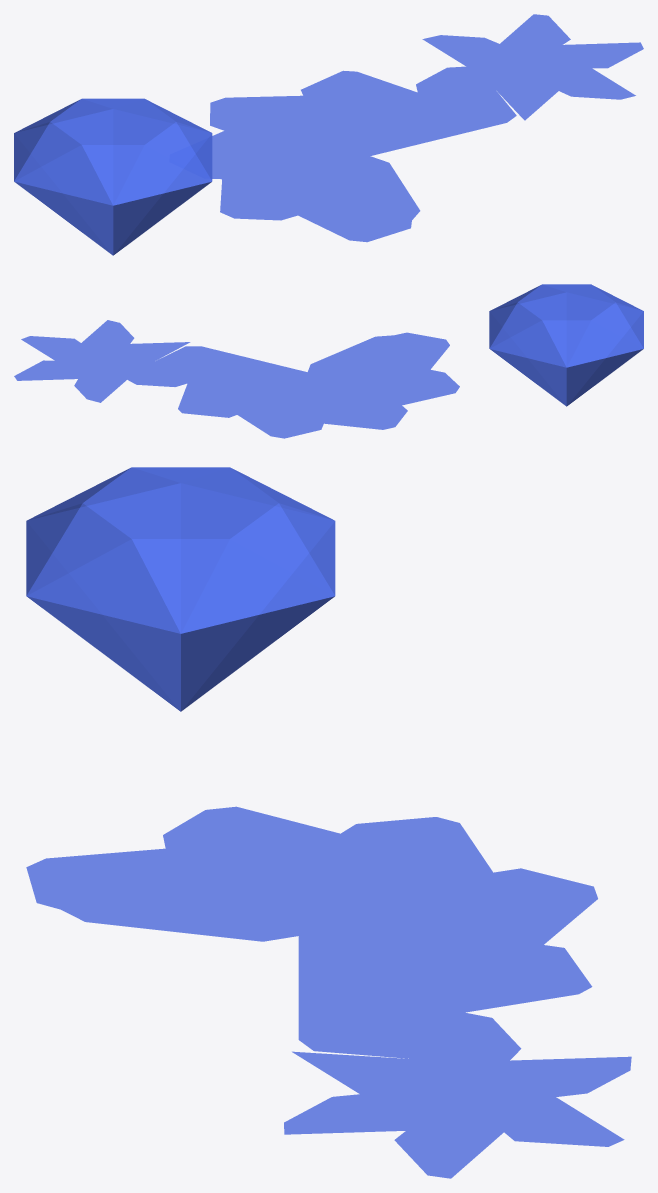
File: Diamante.glb
The picture shows the model from 3 angles, top to bottom: view 1: azimuth 30°, elevation 25°; view 2: azimuth 150°, elevation 25°; view 3: azimuth 270°, elevation 25°; orthographic projection. The views are drawn at different scales.
Visible parts, largest first — view 1: Group #0, Diamante; view 2: Group #0, Diamante; view 3: Group #0, Diamante.
Part boxes in pixels (x1=…): Group #0: x1=210, y1=14, x2=643, y2=242; Diamante: x1=14, y1=98, x2=212, y2=255; Group #0: x1=14, y1=320, x2=459, y2=438; Diamante: x1=489, y1=284, x2=643, y2=406; Group #0: x1=26, y1=806, x2=631, y2=1178; Diamante: x1=26, y1=467, x2=335, y2=711.
Size of the model in its own units: 0.4211 by 0.0756 by 0.1986.
